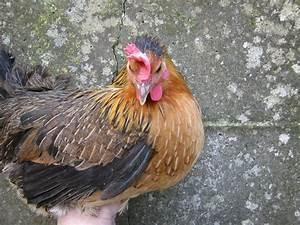hen: (0, 32, 205, 224)
